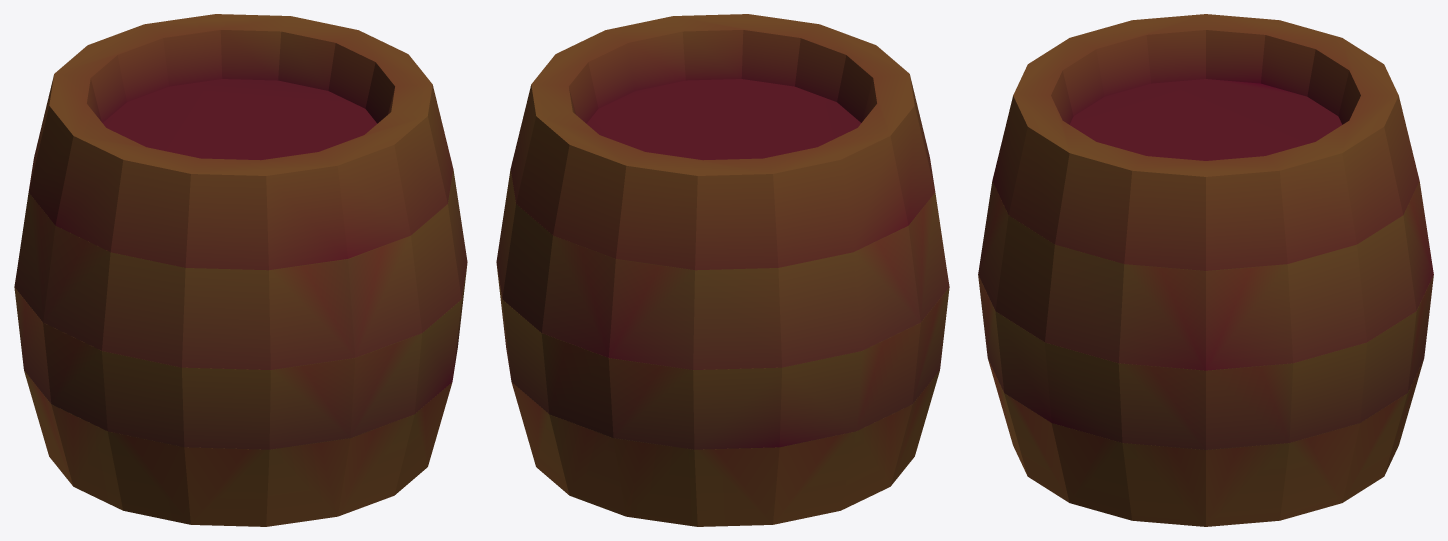
The picture shows the model from 3 angles, left to right: view 1: azimuth 30°, elevation 25°; view 2: azimuth 150°, elevation 25°; view 3: azimuth 270°, elevation 25°; orthographic projection.
Parts seen in each view (by area): view 1: staves; view 2: staves; view 3: staves.
Boxes of the visible parts, <box> form: staves: <box>14,14,467,526</box>; staves: <box>496,14,949,526</box>; staves: <box>978,14,1433,526</box>.
Bounding box in the file's own units: 0.9002 × 0.7624 × 0.9002.
